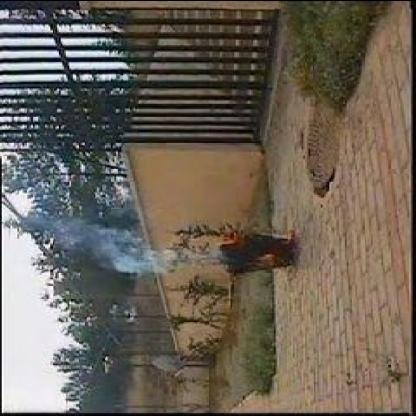-: (57, 219, 177, 275)
foggia-v2-map80-epoch100 - v1 4323: (193, 230, 237, 248)
